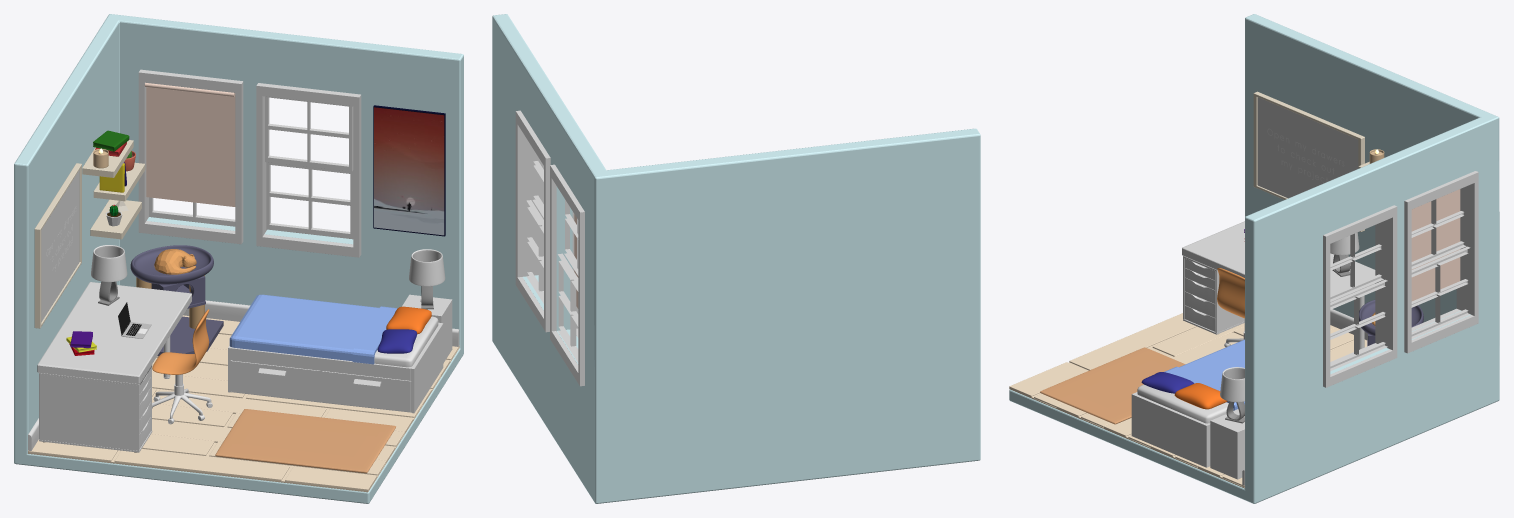
The model's file is room_combined4.glb.
3 renders of one model, left to right at view 1: azimuth 30°, elevation 25°; view 2: azimuth 150°, elevation 25°; view 3: azimuth 270°, elevation 25°, orthographic. The views are drawn at different scales.
Parts seen in each view (by area): view 1: Right Window Frame.001, floor, Frame, Plane.006, TableTop, sheets, Plane.007, Drawer_Large_Front_Panel, Whiteboard frame.001, Cube.006, Whiteboard frame, Cube.003 (+15 smaller); view 2: Right Window Frame.001; view 3: Right Window Frame.001, floor, Whiteboard frame.001, Plane.007, Frame, TableTop, Drawer_Large_Front_Panel, NightStand, sheets, Whiteboard frame, Mattress, Cube.003 (+4 smaller).
Boxes of the visible parts, x1,y1,x2,y2 form: Right Window Frame.001: (14, 14, 463, 503); floor: (28, 315, 459, 492); Frame: (228, 322, 443, 413); Plane.006: (373, 105, 445, 236); TableTop: (37, 282, 191, 383); sheets: (229, 294, 397, 364); Plane.007: (215, 409, 395, 473); Drawer_Large_Front_Panel: (39, 364, 152, 452); Whiteboard frame.001: (41, 170, 79, 321); Cube.006: (130, 245, 213, 284); Whiteboard frame: (34, 163, 81, 328); Cube.003: (152, 309, 209, 374); Right Window Frame.001: (492, 14, 980, 503); Right Window Frame.001: (1009, 14, 1499, 503); floor: (1009, 313, 1367, 488); Whiteboard frame.001: (1257, 97, 1358, 198); Plane.007: (1040, 347, 1185, 424); Frame: (1131, 392, 1210, 467); TableTop: (1182, 221, 1375, 302); Drawer_Large_Front_Panel: (1183, 256, 1244, 334); NightStand: (1210, 409, 1244, 479); sheets: (1164, 339, 1244, 410); Whiteboard frame: (1253, 91, 1364, 231); Mattress: (1137, 384, 1233, 423); Cube.003: (1217, 268, 1244, 318).
Size of the model in its own units: 5.67 by 3.63 by 5.67.
46 materials, 1 textured.
